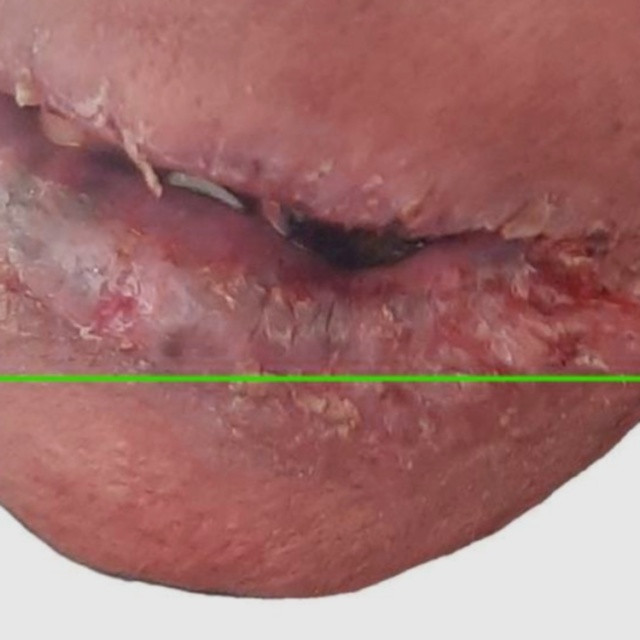Contact Dermatitis: (0, 378, 639, 639)
